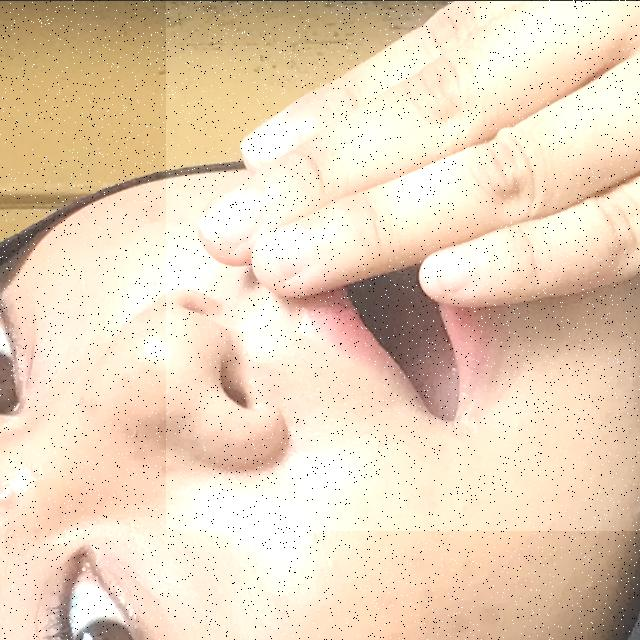ngantuk: (166, 0, 640, 530)
